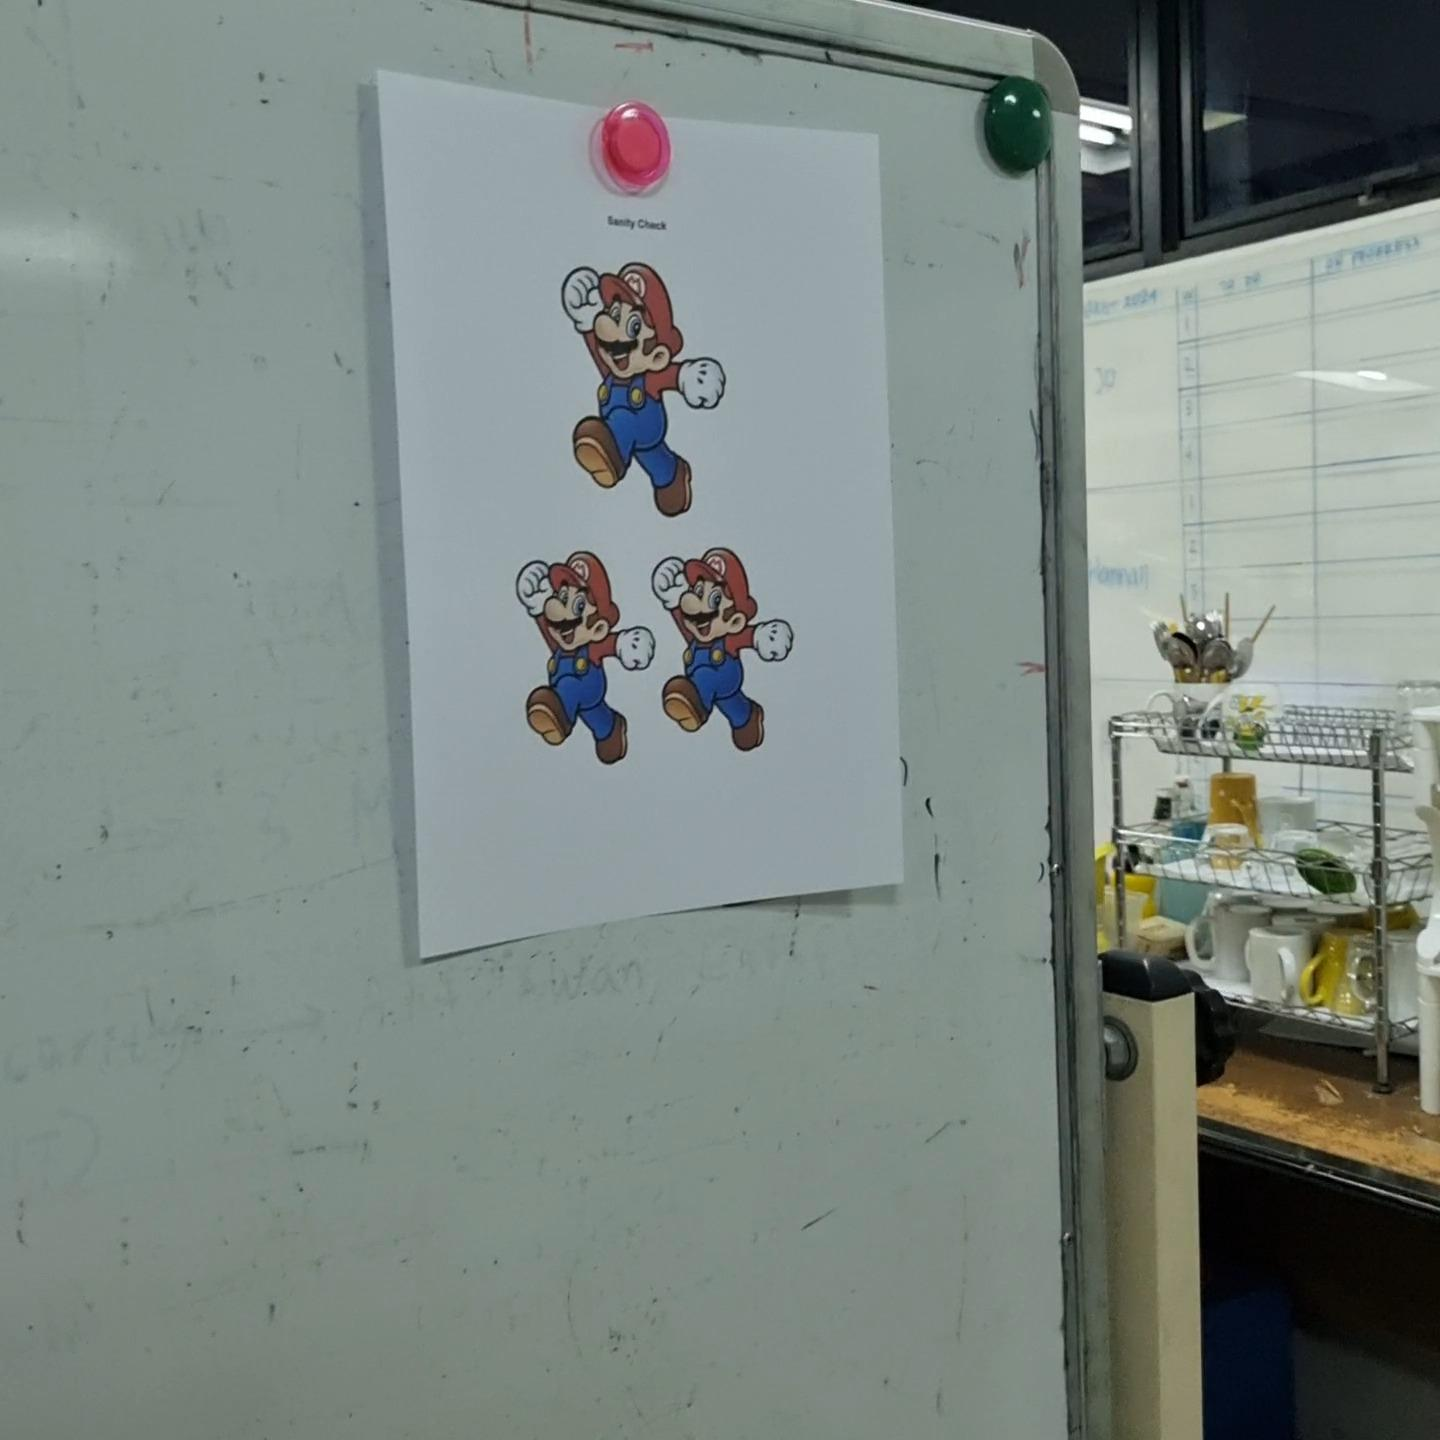mario: (554, 251, 731, 520), (645, 545, 807, 757), (508, 541, 658, 767)
